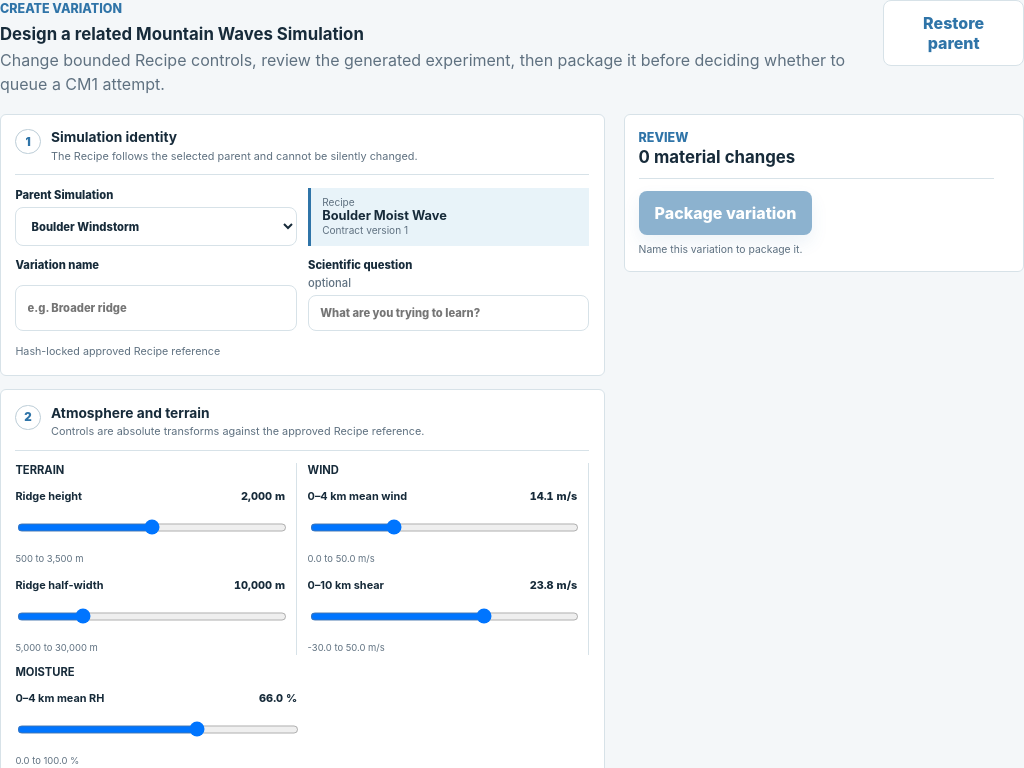
MountainWavesVariationEditor › switches to the dry Recipe and its bounded controls with the parent
The width and height of the screenshot is (1024, 768).
Select "Dry Ridge" in the dropdown labelled "Parent Simulation": (156, 227) [15,207,297,246]
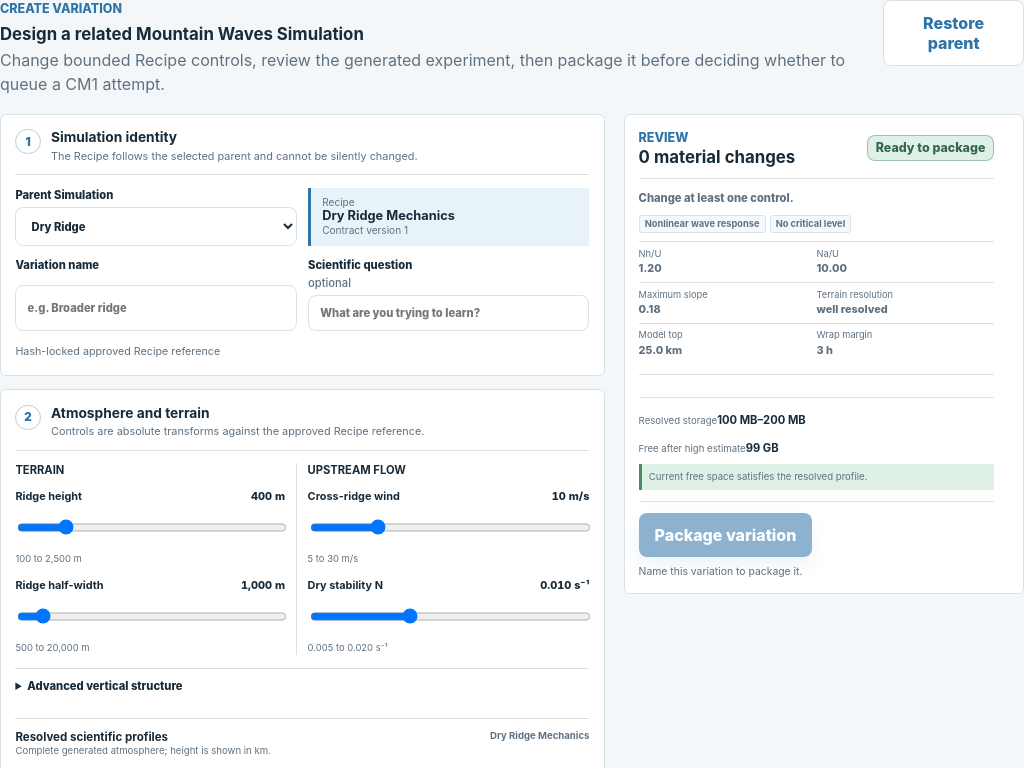
Now the text "Dry Ridge Mechanics" below "Parent Simulation" is shown, box [322,208,455,223]
Now the slider named "Cross-ridge wind" is shown, box [310,508,591,547]
Now the slider named "Dry stability N" is shown, box [310,597,591,636]
